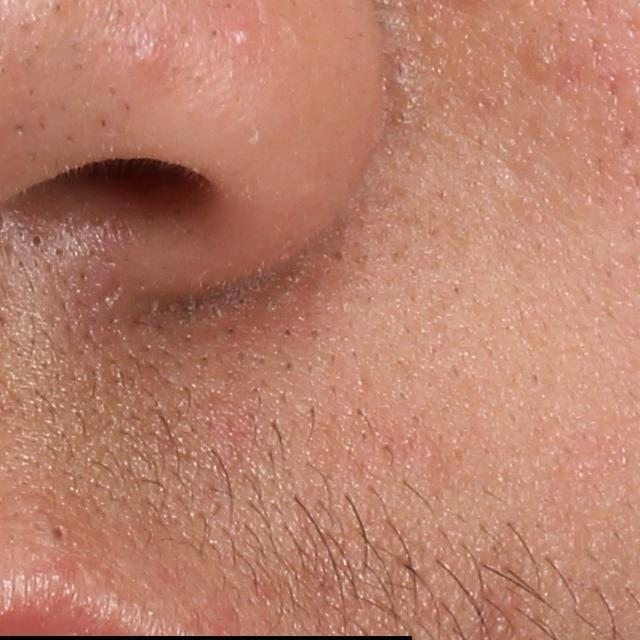comedo: (486, 610, 512, 638), (47, 526, 72, 544)
pustule: (231, 26, 255, 53)
